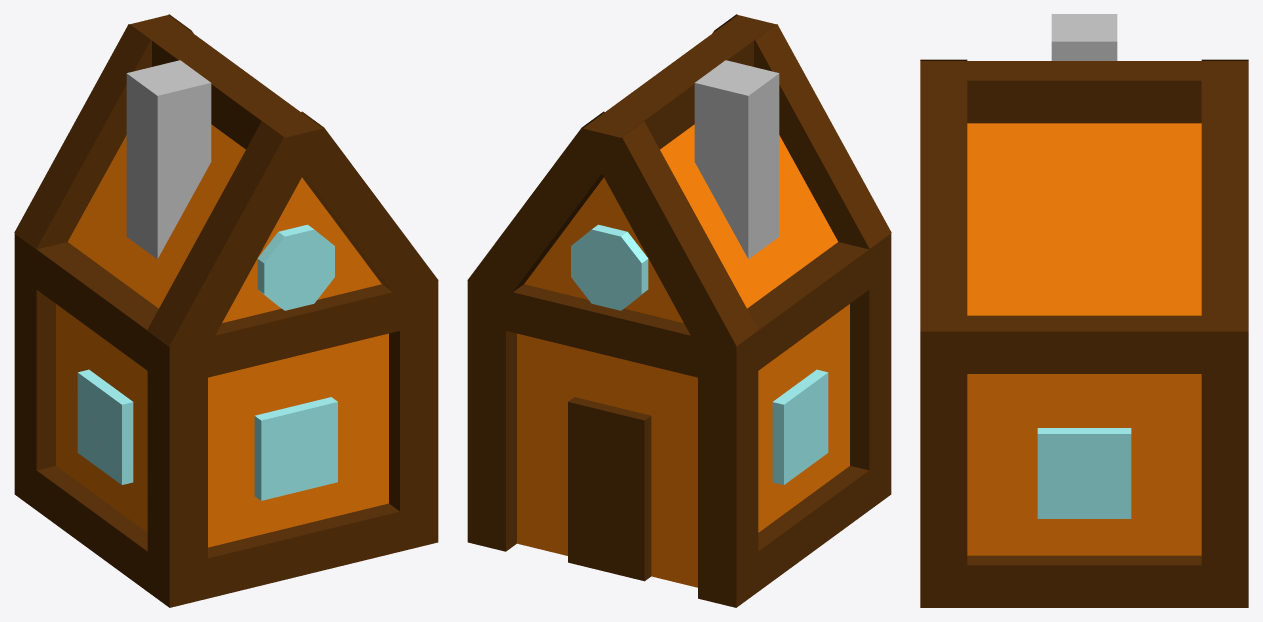
File: human_house.fbx
3 views of the same model, side by side, from view 1: azimuth 30°, elevation 25°; view 2: azimuth 150°, elevation 25°; view 3: azimuth 270°, elevation 25° (orthographic). The views are drawn at different scales.
Parts seen in each view (by area): view 1: 큐브.017, 실린더, 실린더.002, 큐브; view 2: 큐브.017, 실린더, 큐브, 실린더.002; view 3: 큐브.017, 실린더, 실린더.002, 큐브.
Boxes of the visible parts, x1=… form: 큐브.017: x1=14, y1=14, x2=438, y2=607; 실린더: x1=56, y1=124, x2=388, y2=547; 실린더.002: x1=77, y1=224, x2=337, y2=500; 큐브: x1=126, y1=60, x2=211, y2=258; 큐브.017: x1=467, y1=14, x2=891, y2=607; 실린더: x1=517, y1=124, x2=849, y2=587; 큐브: x1=694, y1=60, x2=779, y2=258; 실린더.002: x1=571, y1=224, x2=828, y2=484; 큐브.017: x1=920, y1=59, x2=1248, y2=607; 실린더: x1=967, y1=123, x2=1201, y2=555; 실린더.002: x1=1037, y1=428, x2=1131, y2=518; 큐브: x1=1051, y1=14, x2=1117, y2=60.
Size of the model in its own units: 701 by 1131 by 700.
